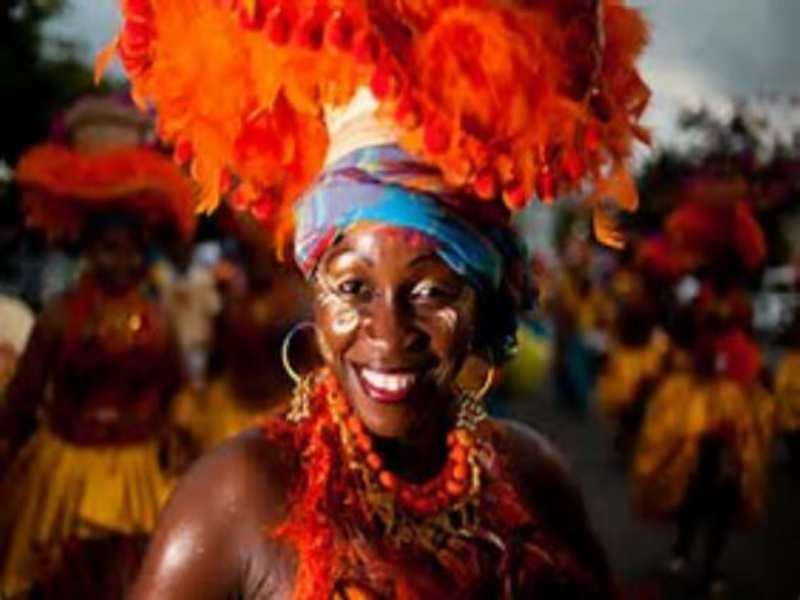TsisyArotava: (265, 181, 552, 450)
